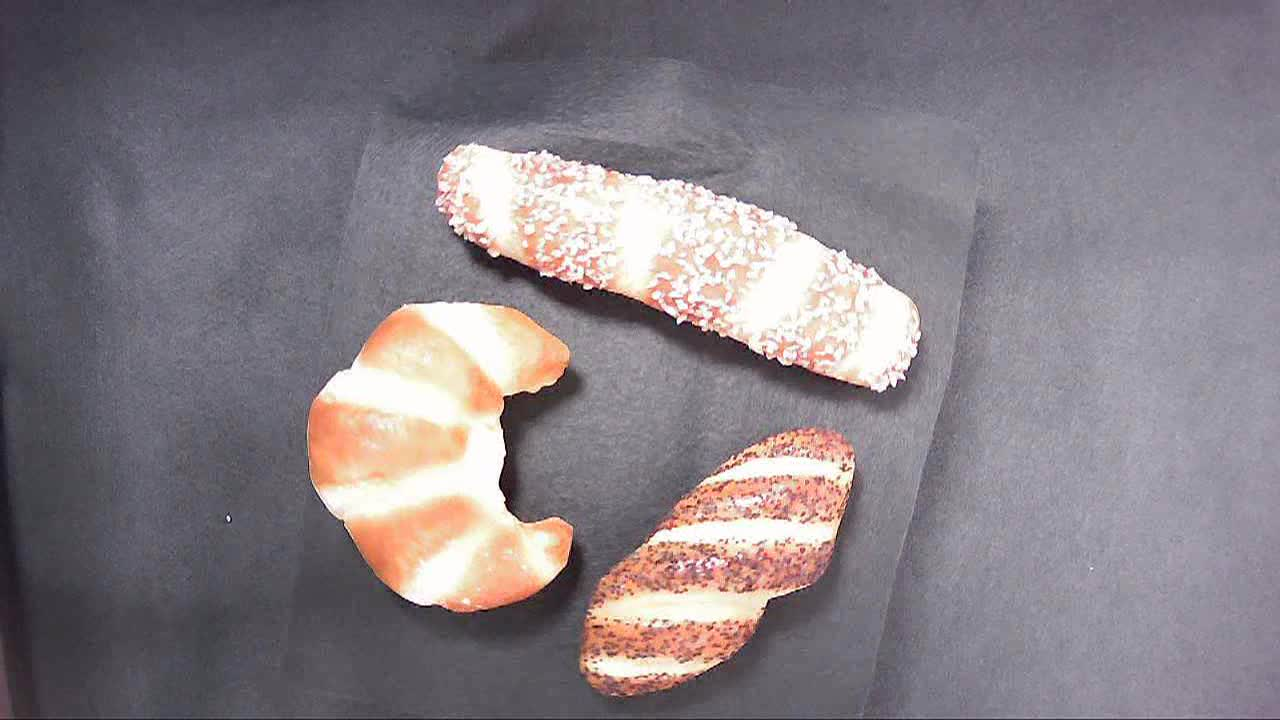cow: (256, 295, 581, 622)
long: (581, 136, 953, 403), (432, 134, 940, 286)
slash: (669, 413, 863, 670), (586, 512, 823, 699)
